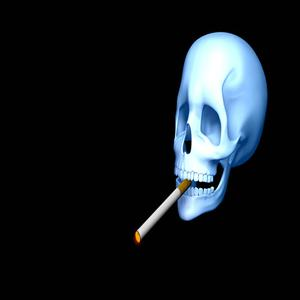cigarette: (131, 177, 193, 247)
